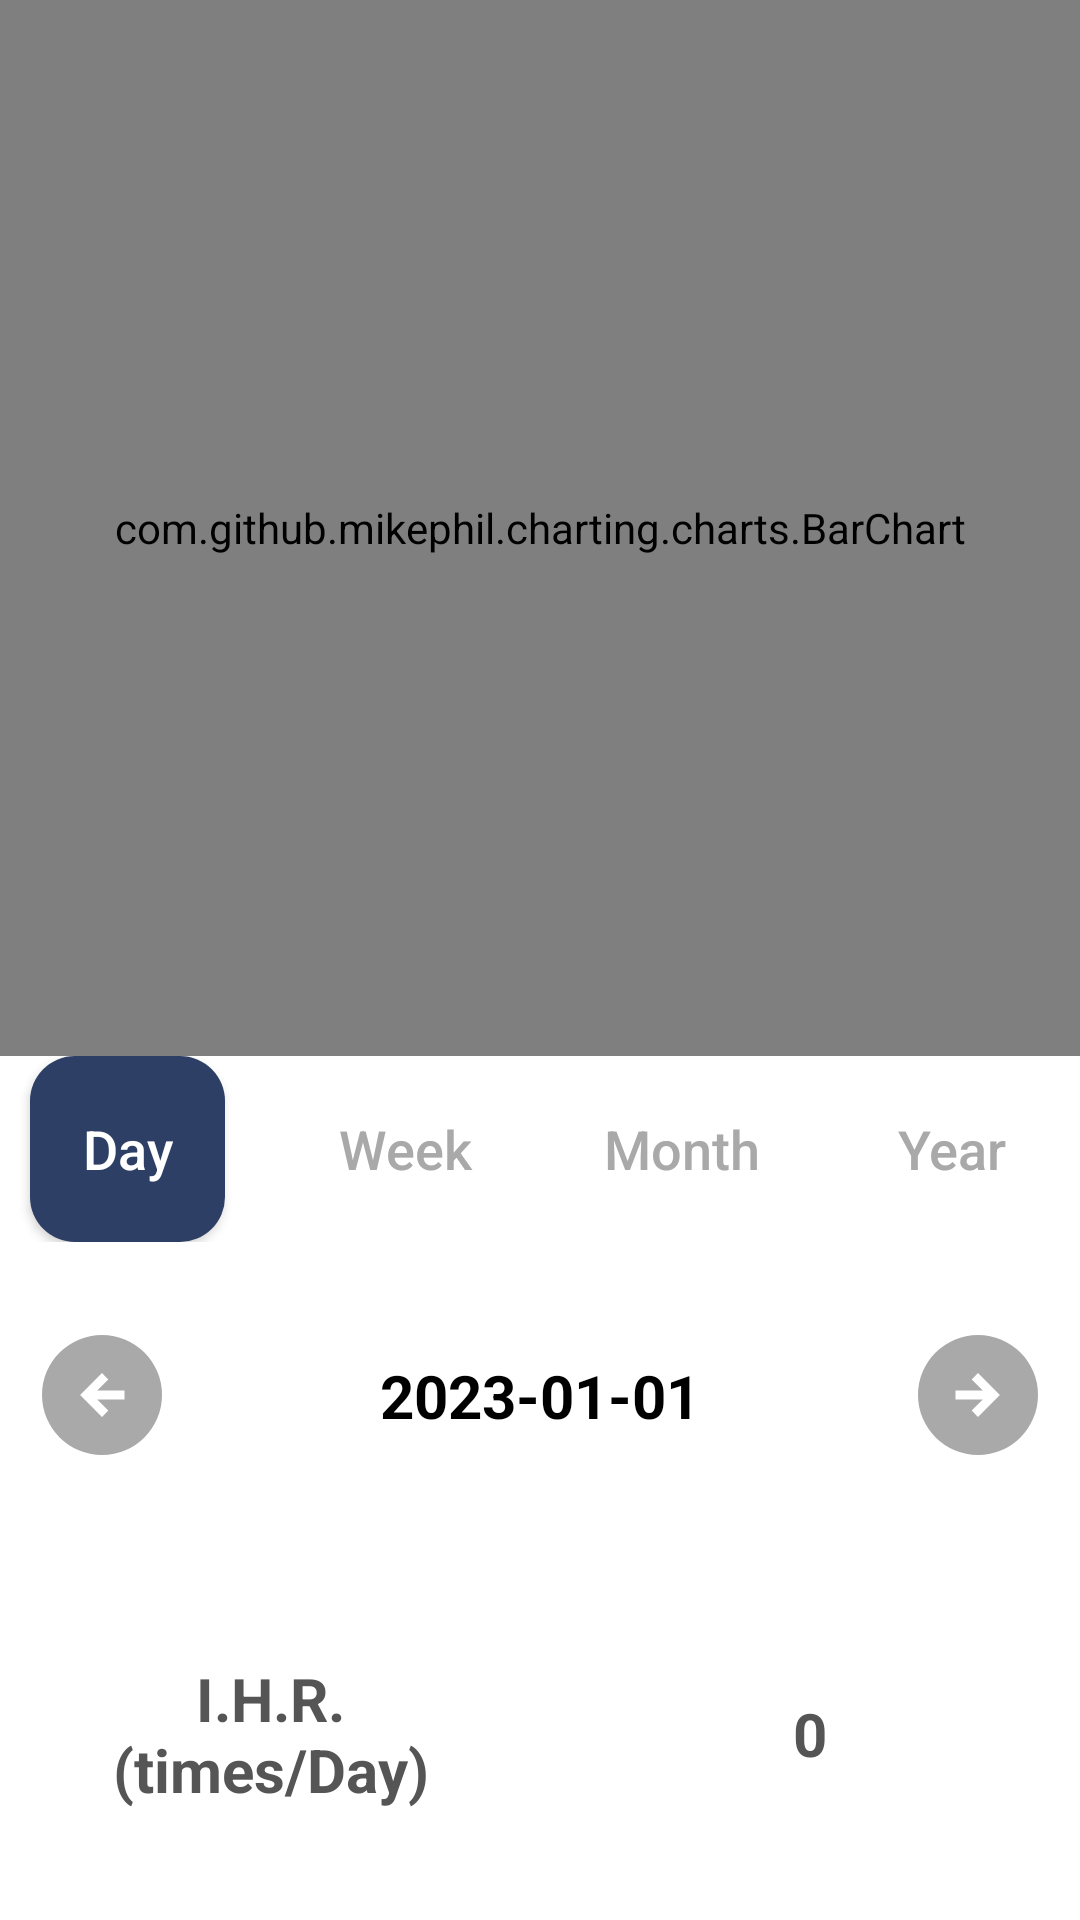

Icon click points for this 1080 x 1920 phone screenshot, format point (x, y):
summary left arrow: point (102, 1395)
summary right arrow: point (978, 1395)
